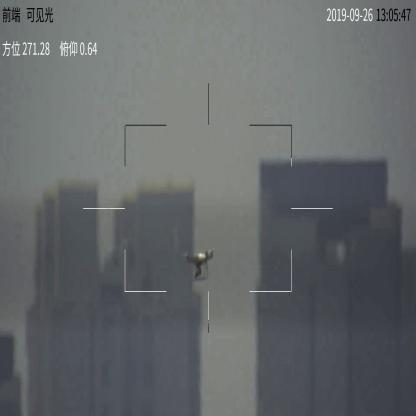uav: (178, 249, 216, 281)
